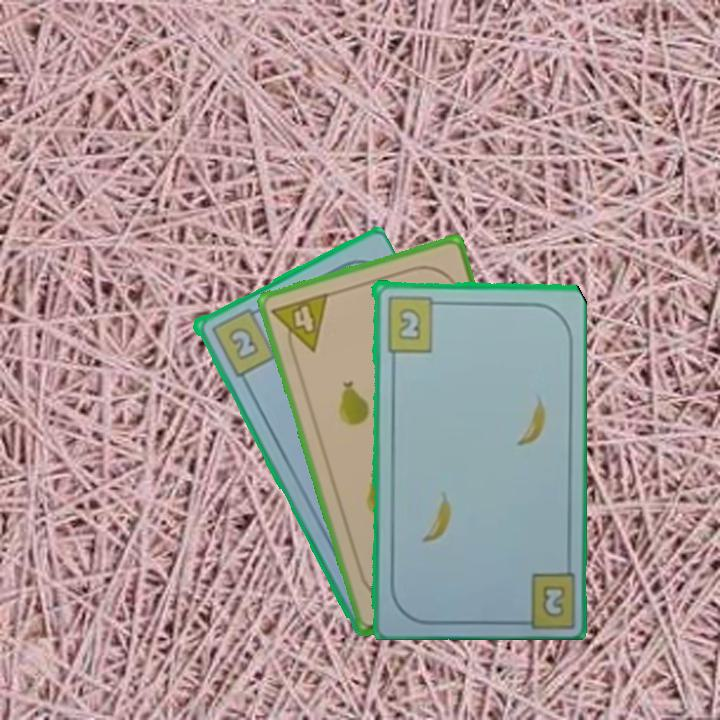2b: (207, 303, 278, 380), (383, 293, 445, 354), (539, 582, 568, 621)
4p: (268, 289, 332, 360)
